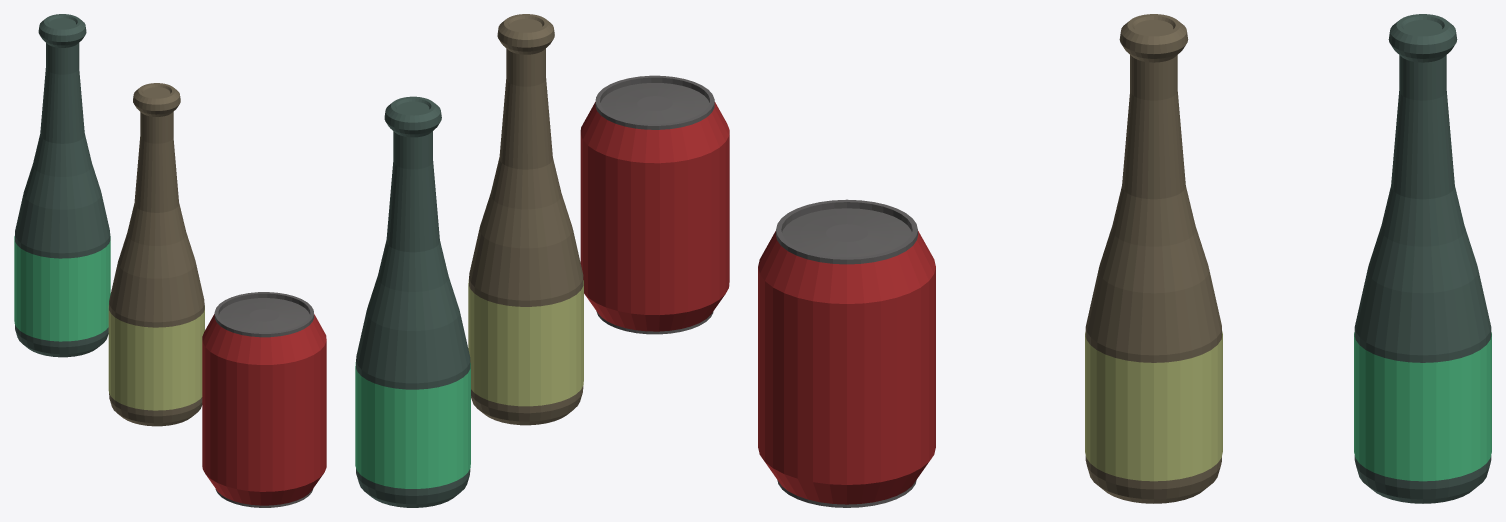
The model's file is Soda_Can+Bottle.glb.
3 renders of one model, left to right at view 1: azimuth 30°, elevation 25°; view 2: azimuth 150°, elevation 25°; view 3: azimuth 270°, elevation 25°, orthographic. The views are drawn at different scales.
Parts seen in each view (by area): view 1: Cylinder.008, Cylinder.005, Cylinder, Cylinder.001, Cylinder.003, Cylinder.006; view 2: Cylinder.008, Cylinder.005, Cylinder, Cylinder.001, Cylinder.003, Cylinder.006; view 3: Cylinder.008, Cylinder.005, Cylinder, Cylinder.003, Cylinder.001, Cylinder.006.
Boxes of the visible parts, bbox=[...] form: Cylinder.008: bbox=[202, 314, 326, 505]; Cylinder.005: bbox=[15, 14, 110, 357]; Cylinder: bbox=[109, 83, 204, 426]; Cylinder.001: bbox=[14, 236, 110, 341]; Cylinder.003: bbox=[108, 305, 204, 410]; Cylinder.006: bbox=[214, 292, 314, 507]; Cylinder.008: bbox=[580, 102, 729, 331]; Cylinder.005: bbox=[356, 96, 470, 507]; Cylinder: bbox=[469, 14, 583, 425]; Cylinder.001: bbox=[355, 362, 470, 488]; Cylinder.003: bbox=[468, 279, 583, 406]; Cylinder.006: bbox=[595, 75, 714, 334]; Cylinder.008: bbox=[758, 231, 935, 504]; Cylinder.005: bbox=[1354, 14, 1491, 503]; Cylinder: bbox=[1085, 14, 1221, 503]; Cylinder.003: bbox=[1085, 331, 1222, 481]; Cylinder.001: bbox=[1354, 332, 1491, 481]; Cylinder.006: bbox=[775, 199, 918, 507].
Bounding box in the file's own units: 6.2 × 17.63 × 25.59.
